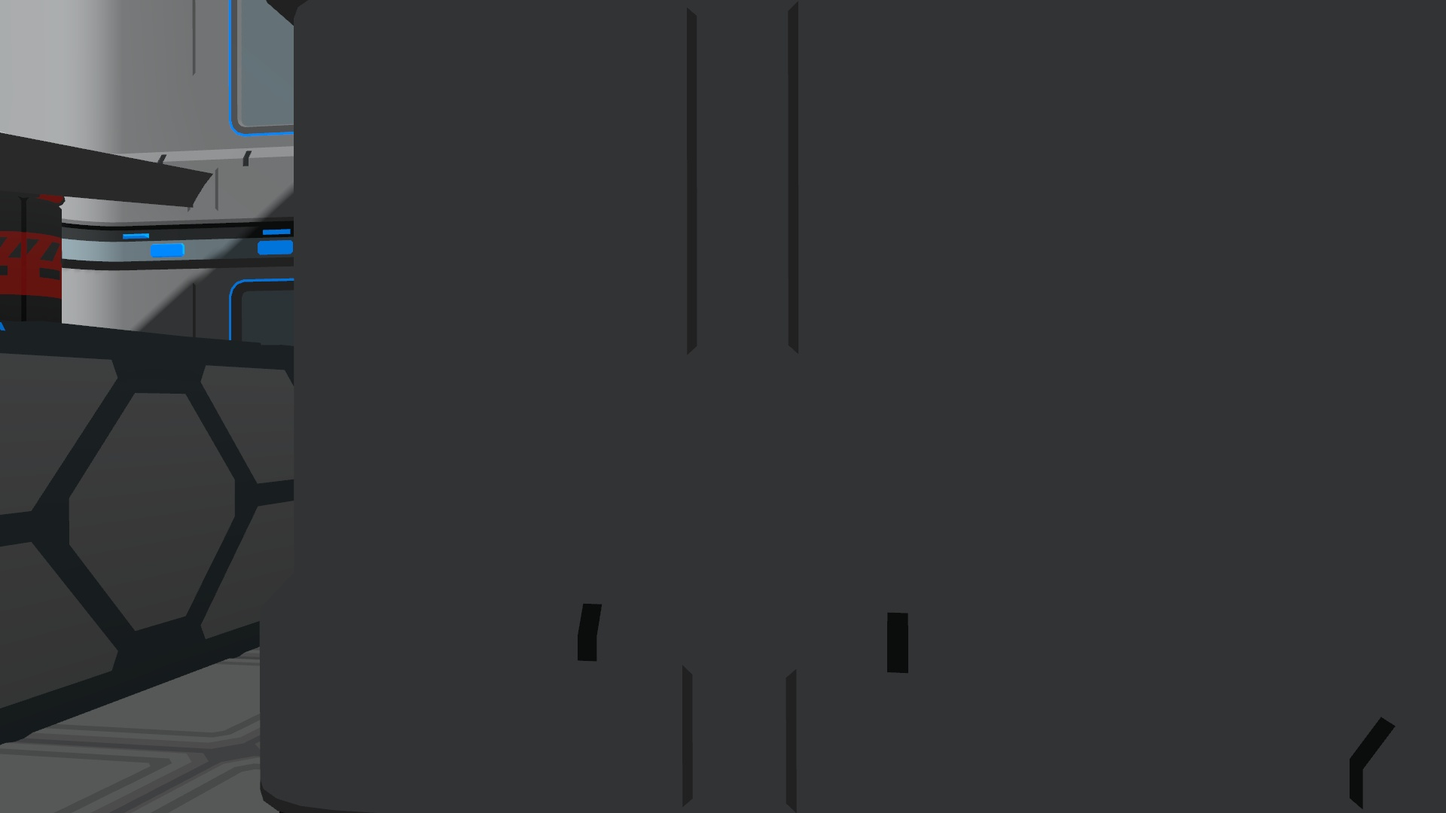red_barrel: (3, 177, 66, 331)
